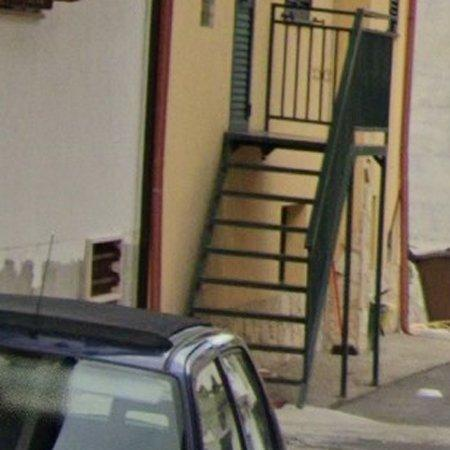stairs: (193, 134, 324, 356)
